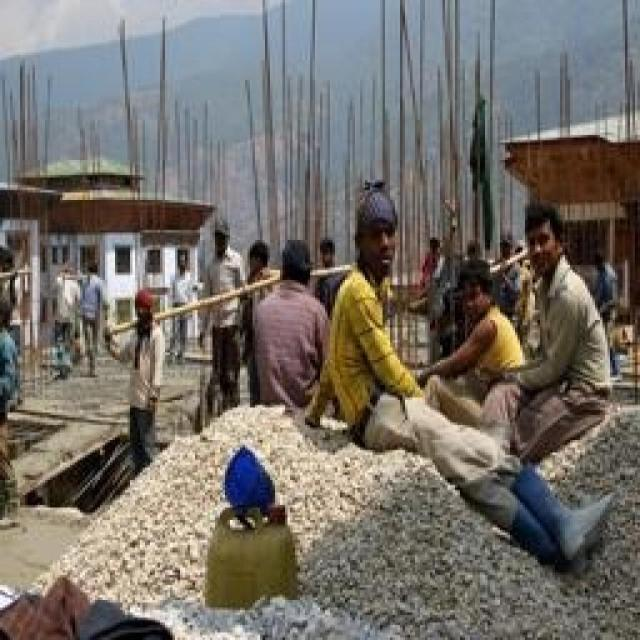Helmet: (525, 262, 609, 420), (335, 269, 389, 434), (262, 291, 330, 400), (458, 312, 522, 404), (348, 170, 403, 268), (127, 318, 173, 416), (518, 202, 566, 288), (0, 314, 26, 441), (202, 249, 236, 346), (454, 260, 504, 322), (280, 223, 320, 298), (167, 261, 198, 346), (241, 264, 267, 345), (166, 231, 201, 286), (75, 274, 101, 346), (308, 224, 343, 277), (421, 249, 446, 323), (240, 231, 275, 282), (205, 212, 238, 262), (596, 266, 620, 330), (316, 262, 344, 316), (48, 278, 73, 334), (130, 283, 158, 325), (50, 258, 86, 289), (74, 252, 108, 284), (422, 220, 446, 258), (588, 248, 610, 281)
